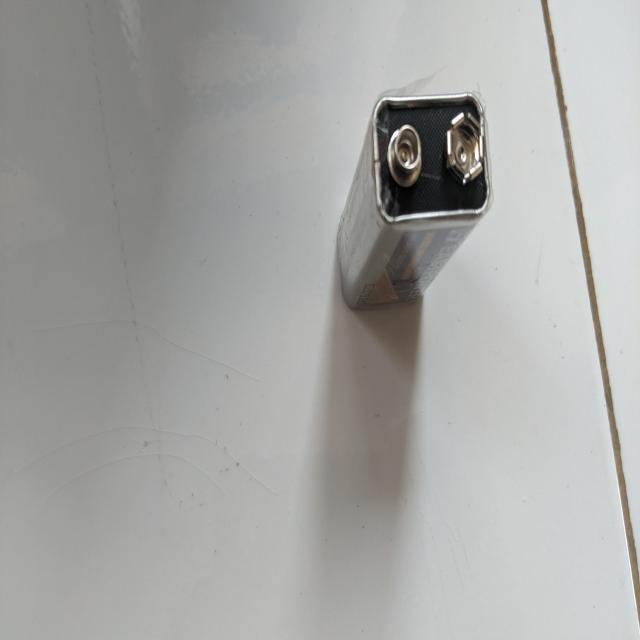Dry Cell: (335, 96, 501, 310)
